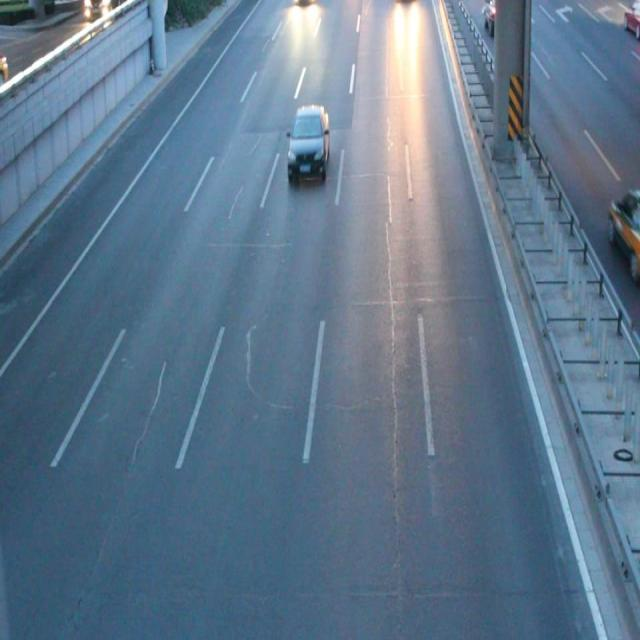car: (287, 106, 328, 180), (608, 188, 640, 264), (482, 1, 507, 37)
